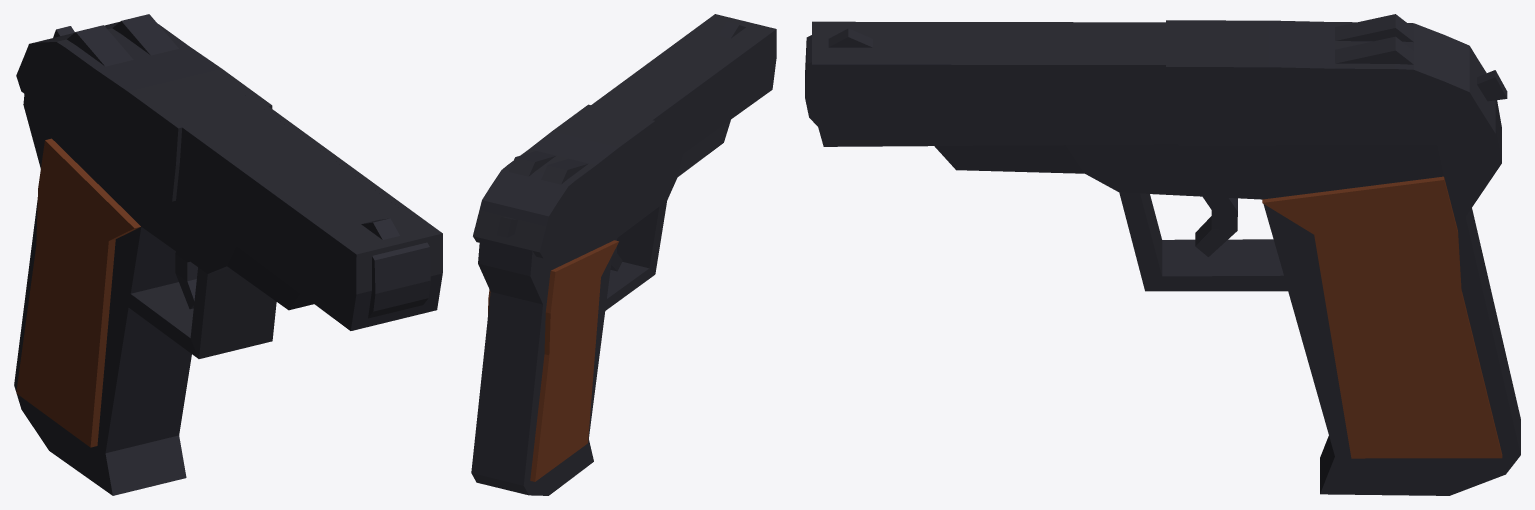
The model's file is gun.obj.
3 views of the same model, side by side, from view 1: azimuth 30°, elevation 25°; view 2: azimuth 150°, elevation 25°; view 3: azimuth 270°, elevation 25° (orthographic). The views are drawn at different scales.
Parts seen in each view (by area): view 1: GunMetalPart_Cube.002, GunWoodPart_Cube.001; view 2: GunMetalPart_Cube.002, GunWoodPart_Cube.001; view 3: GunMetalPart_Cube.002, GunWoodPart_Cube.001.
Part boxes in pixels (box(x1,y1,x2,y2)): GunMetalPart_Cube.002: box(14, 14, 442, 495); GunWoodPart_Cube.001: box(16, 138, 140, 447); GunMetalPart_Cube.002: box(471, 14, 776, 495); GunWoodPart_Cube.001: box(487, 240, 618, 481); GunMetalPart_Cube.002: box(805, 14, 1520, 495); GunWoodPart_Cube.001: box(1262, 176, 1502, 458).
Bounding box in the file's own units: 0.7364 × 3.28 × 4.77.
2 materials, 2 textured.
